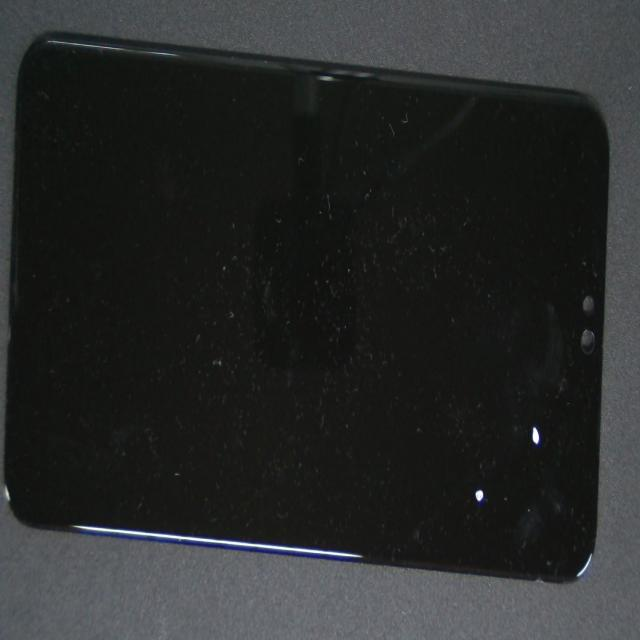Dislodged Screen: (458, 480, 504, 517), (516, 418, 555, 457)
